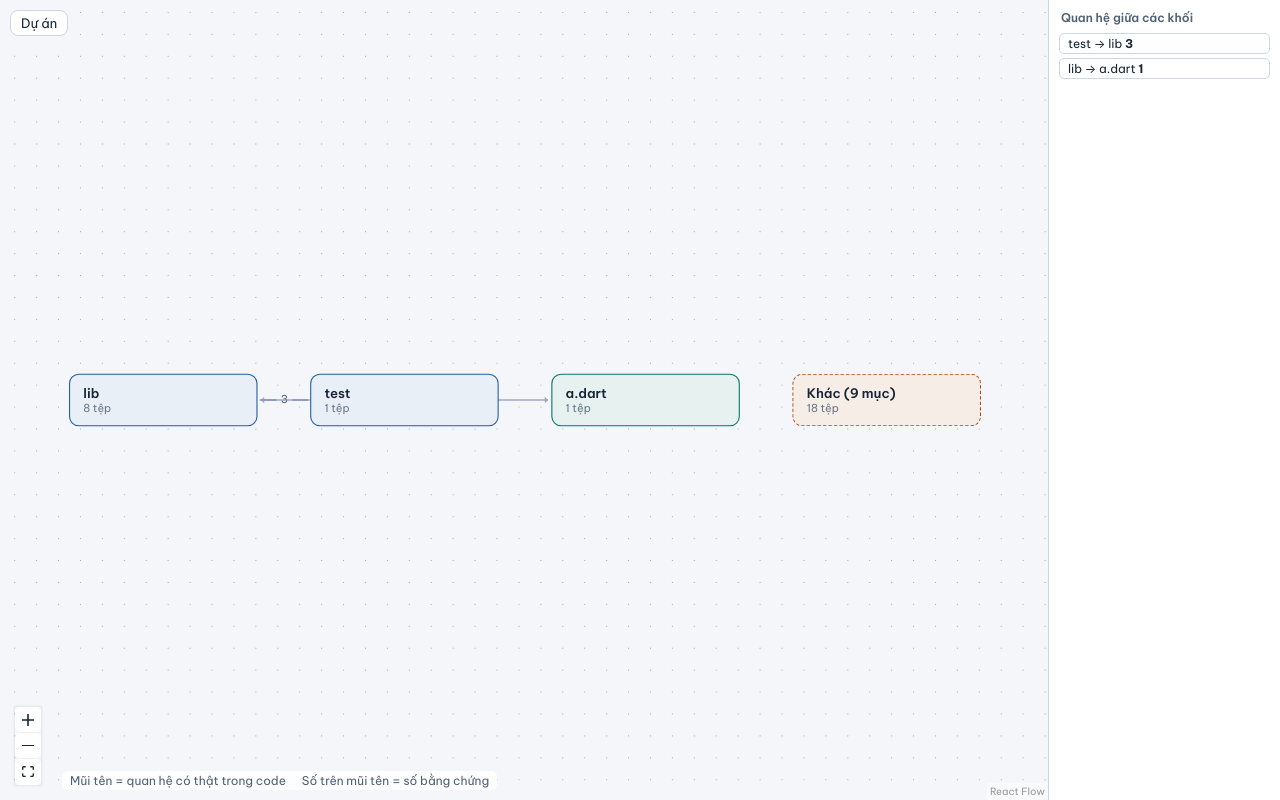
it: ArchitectureCanvas › opens the evidence popover for a relation and opens a node from it
The width and height of the screenshot is (1280, 800).
Click the button "test → lib 3" at (1164, 44), box x1=1059 y1=33 x2=1270 y2=54
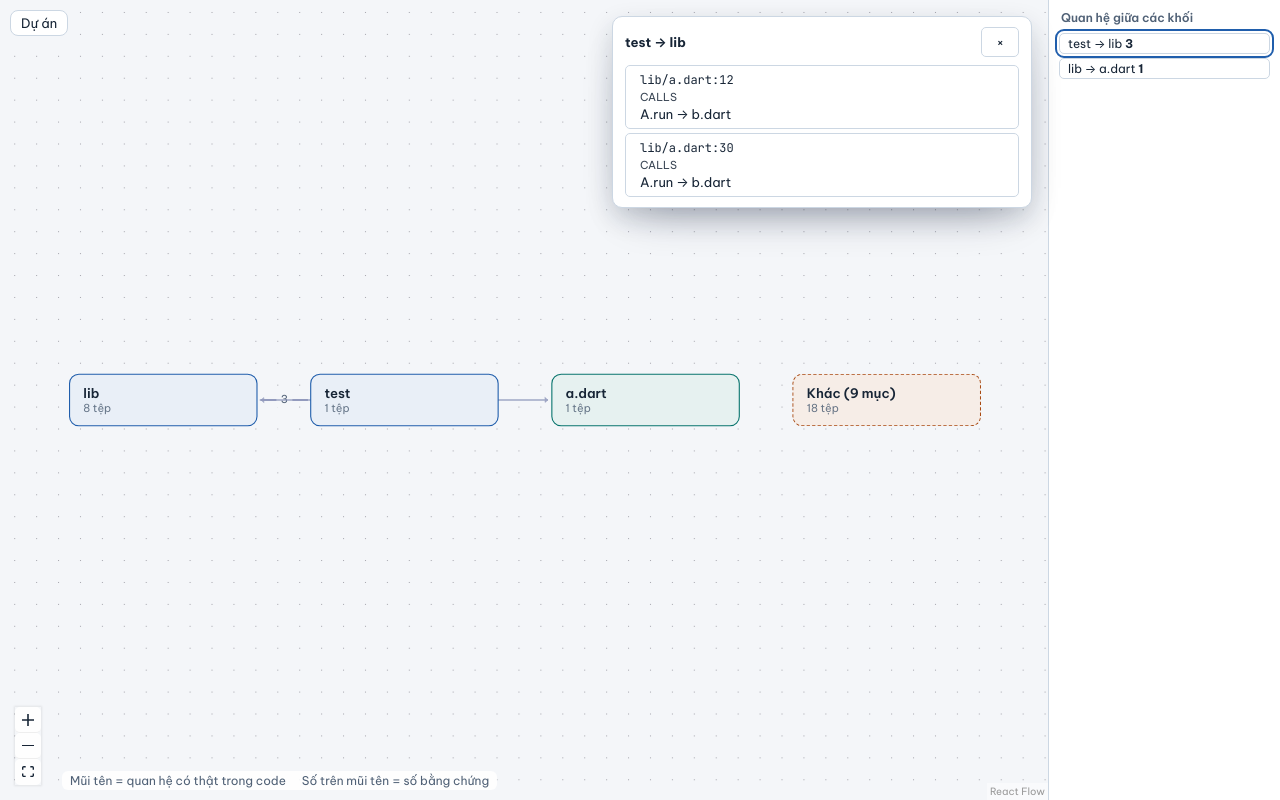
Expected: the button "lib/a.dart:12 CALLS A.run → b.dart" is shown, x1=625 y1=65 x2=1019 y2=129
Click the button "lib/a.dart:30 CALLS A.run → b.dart" at (687, 148), box x1=625 y1=133 x2=1019 y2=197
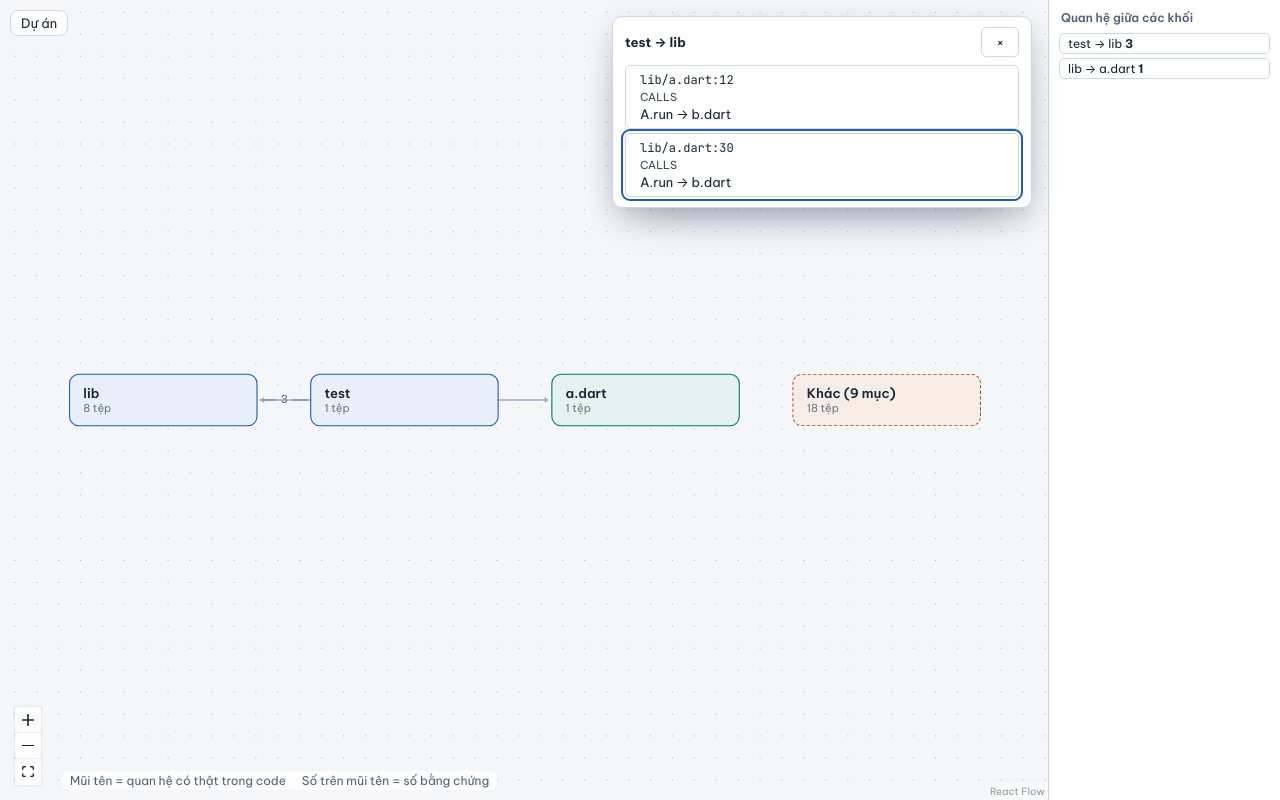
Press Escape
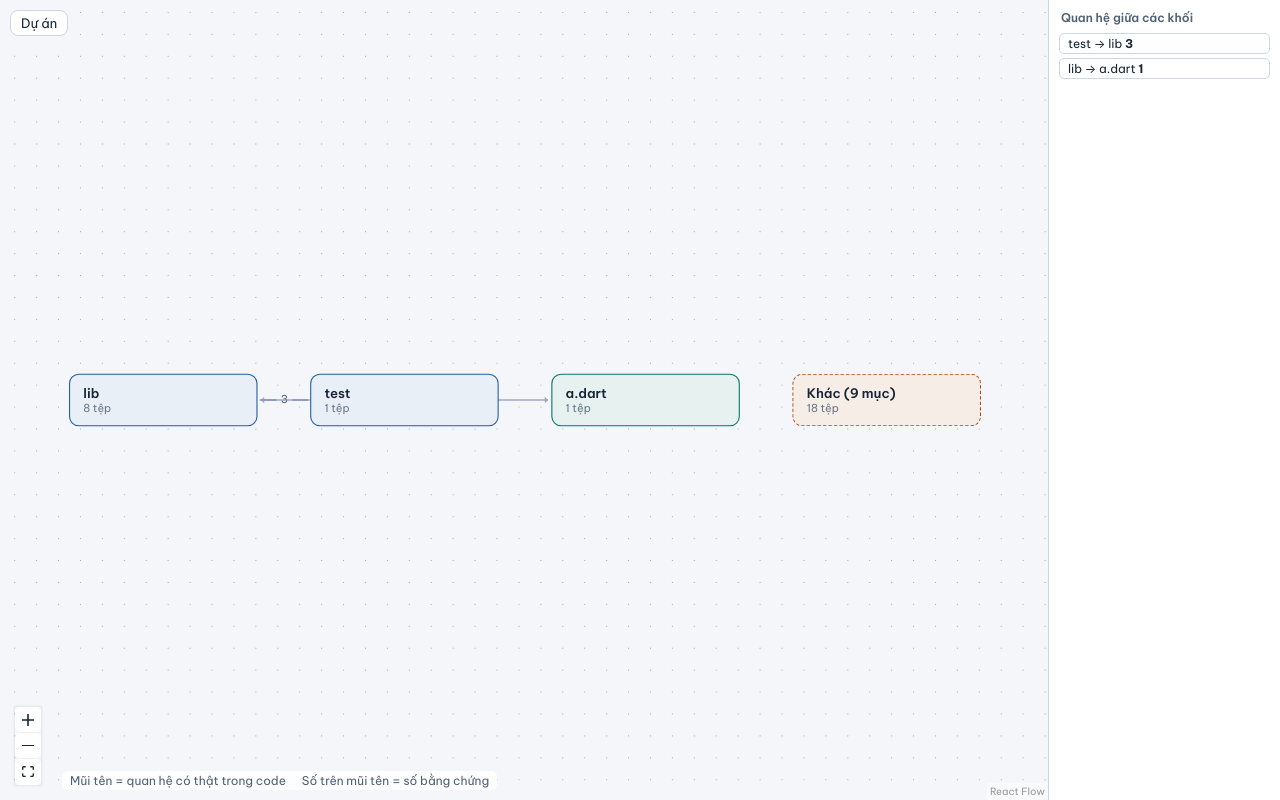
Expected: the dialog is gone
